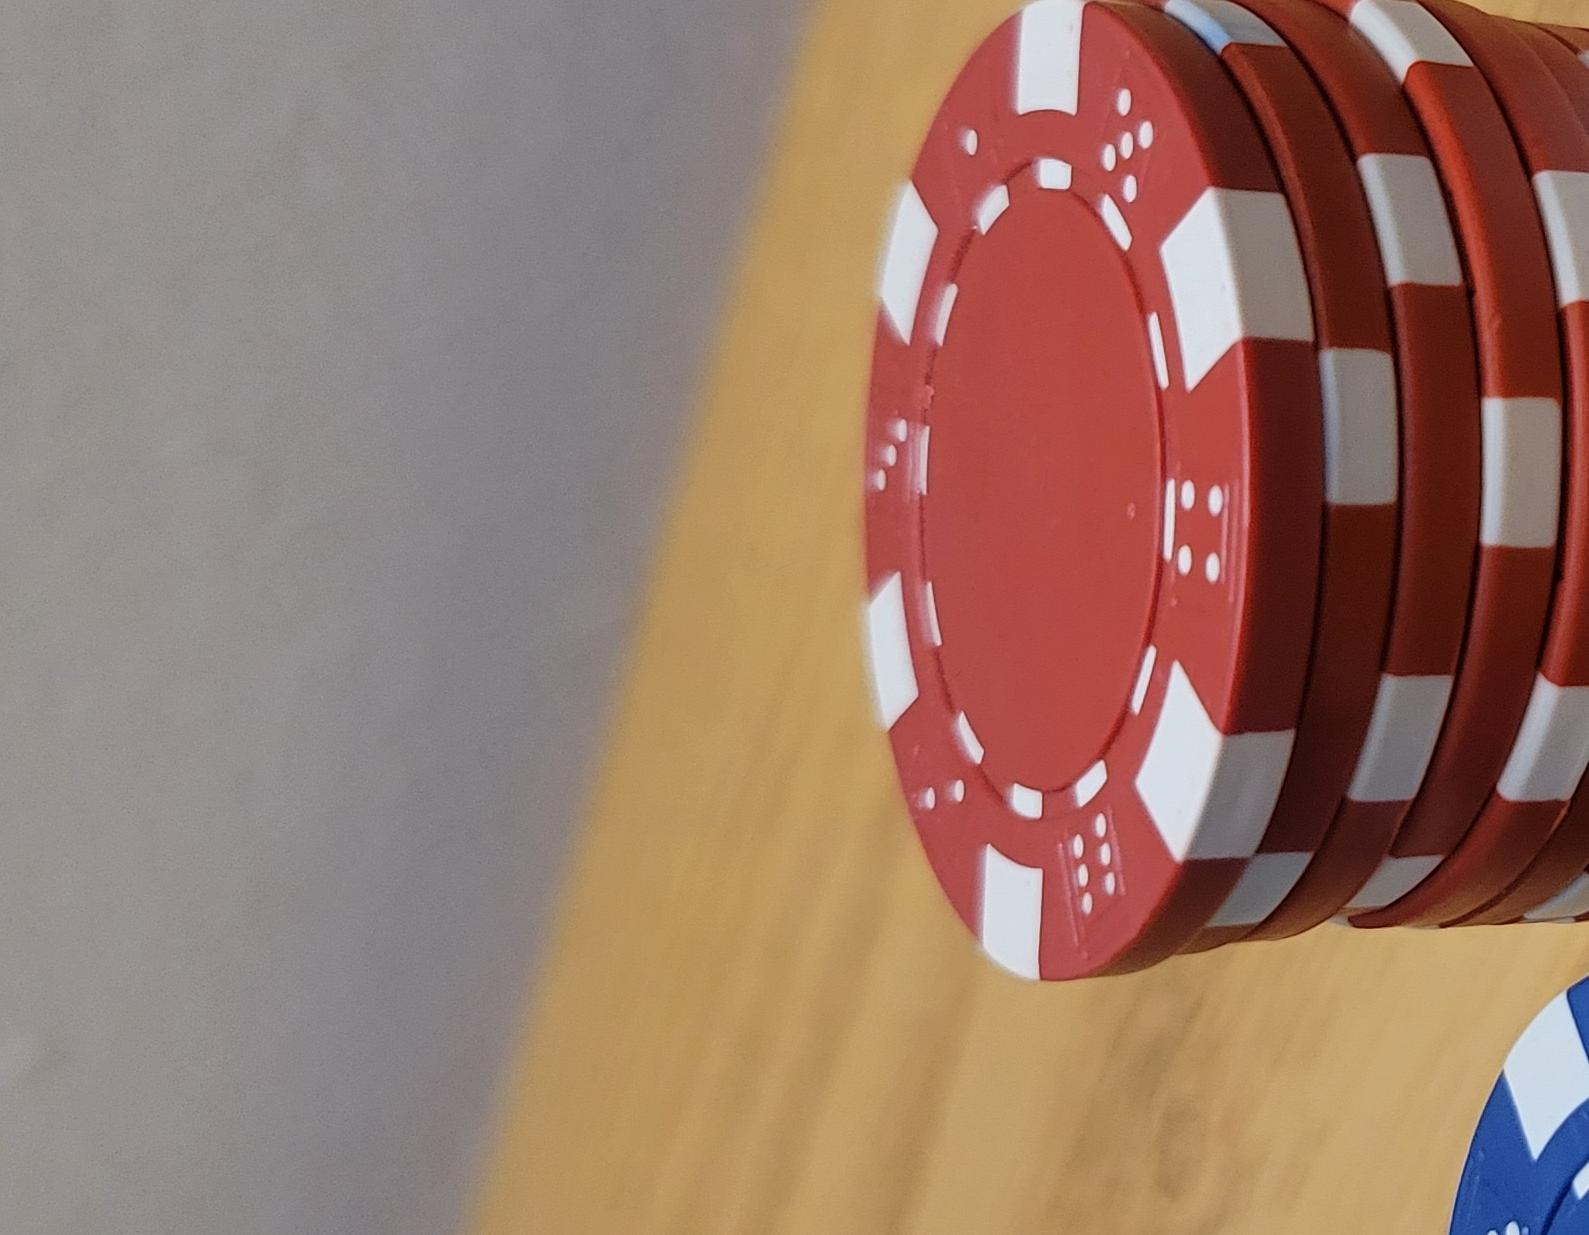Chip: (1, 329, 1172, 1235)
